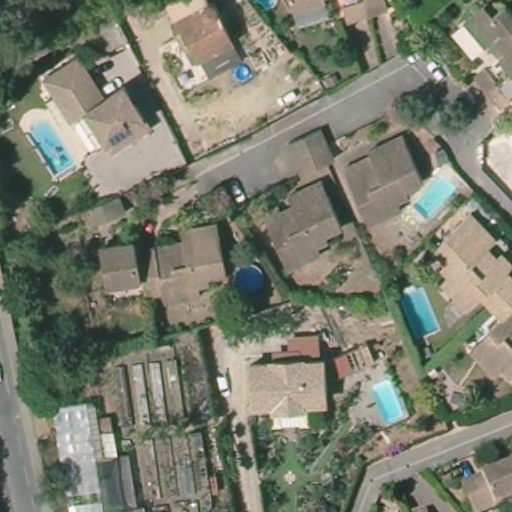pool: (25, 117, 78, 181), (397, 281, 443, 340), (407, 174, 457, 219), (369, 375, 407, 426), (229, 260, 268, 297), (231, 60, 252, 84)
